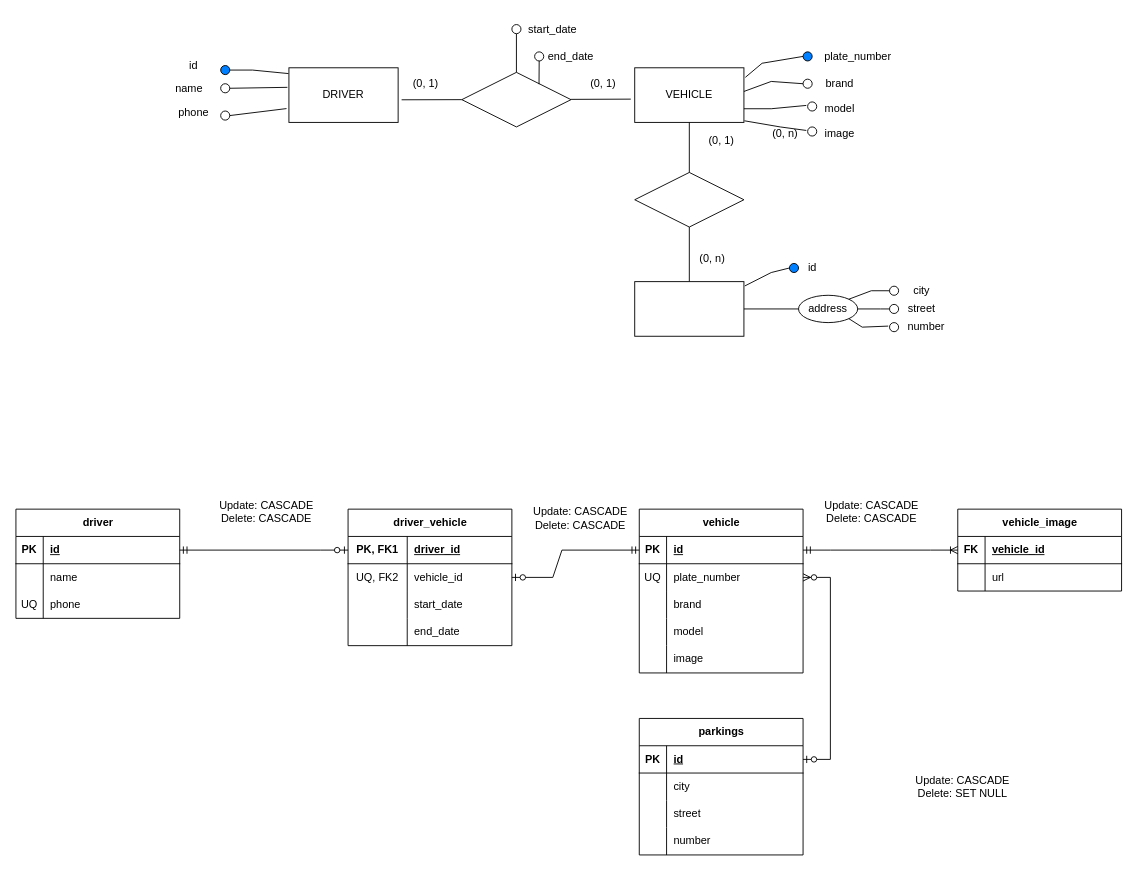
Image size: 1138x871. Some labels were removed from this diagram. Here are the shapes that lost their labels. From the top down, the centre of each, then its label:
the point at 516,99: drives
the point at 689,199: park
the point at 689,308: PARKING
